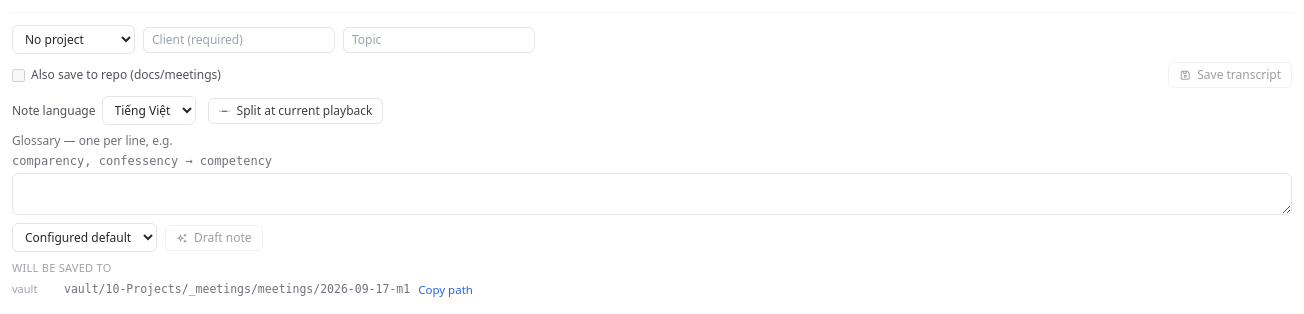
the destination shown in the panel › shows the slug the save will actually send, diacritics folded
Type "Chị Kate" into the field labelled "Client" at (239, 40), box [143,26,335,52]
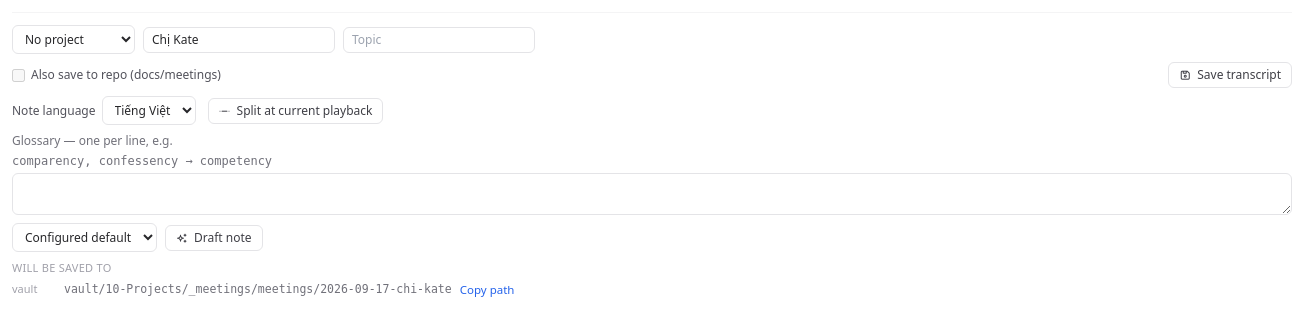
Check: the element with test id "destination-vault" does not show "Chị"
Check: the text with test id "destination-vault" shows "chi-kate", box [64,282,452,296]
Replace the text in the field named "Client" with "Anh Tùng" at (239, 40), box [143,26,335,52]
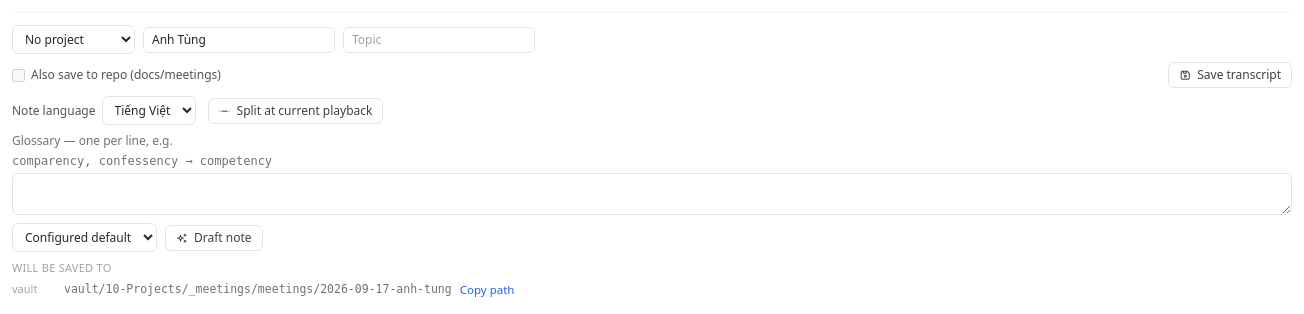
Check: the text with test id "destination-vault" shows "anh-tung", box [64,282,452,296]
Check: the text with test id "destination-vault" no longer shows "chi-kate"
